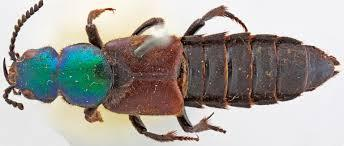Insects: (1, 2, 342, 144)
